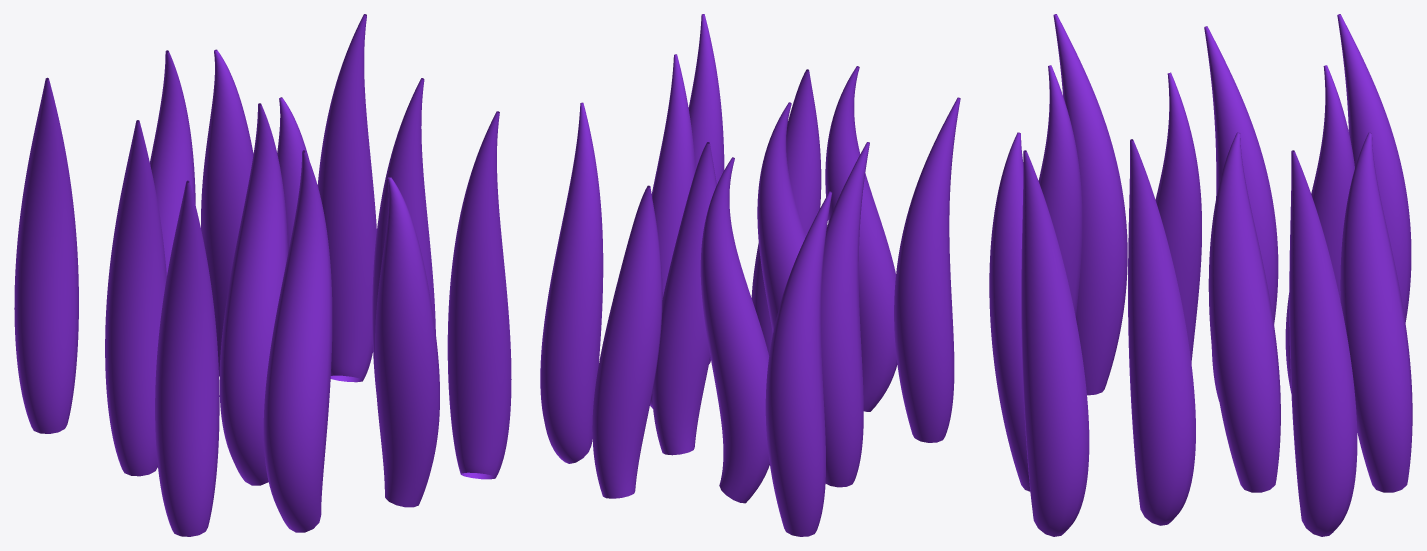
Rendered from Gras-Lila.fbx.
The picture shows the model from 3 angles, left to right: view 1: azimuth 30°, elevation 25°; view 2: azimuth 150°, elevation 25°; view 3: azimuth 270°, elevation 25°; orthographic projection. The views are drawn at different scales.
Visible parts, largest first — view 1: Gras; view 2: Gras; view 3: Gras.
Boxes of the visible parts, x1,y1,x2,y2 form: Gras: [14, 14, 511, 536]; Gras: [540, 14, 960, 536]; Gras: [989, 14, 1412, 536].
Size of the model in its own units: 54.55 by 60.22 by 60.07.
